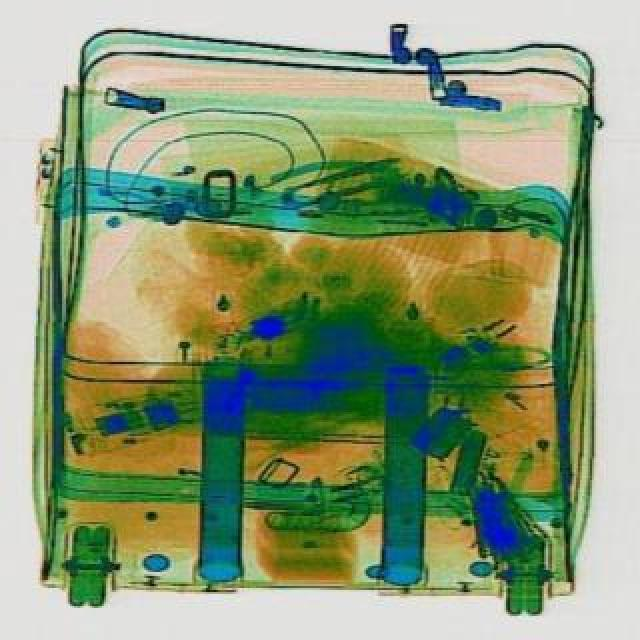pliers: (272, 152, 404, 216)
